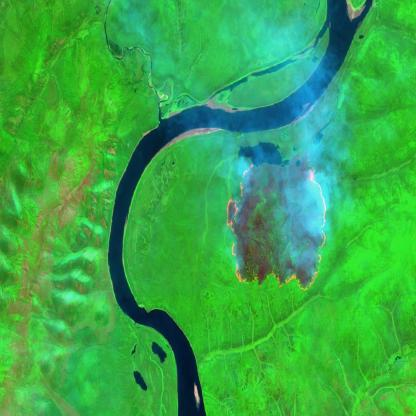fire: (224, 160, 330, 290)
